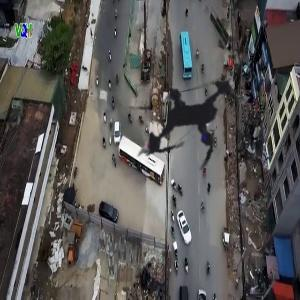drone: (87, 12, 300, 225)
